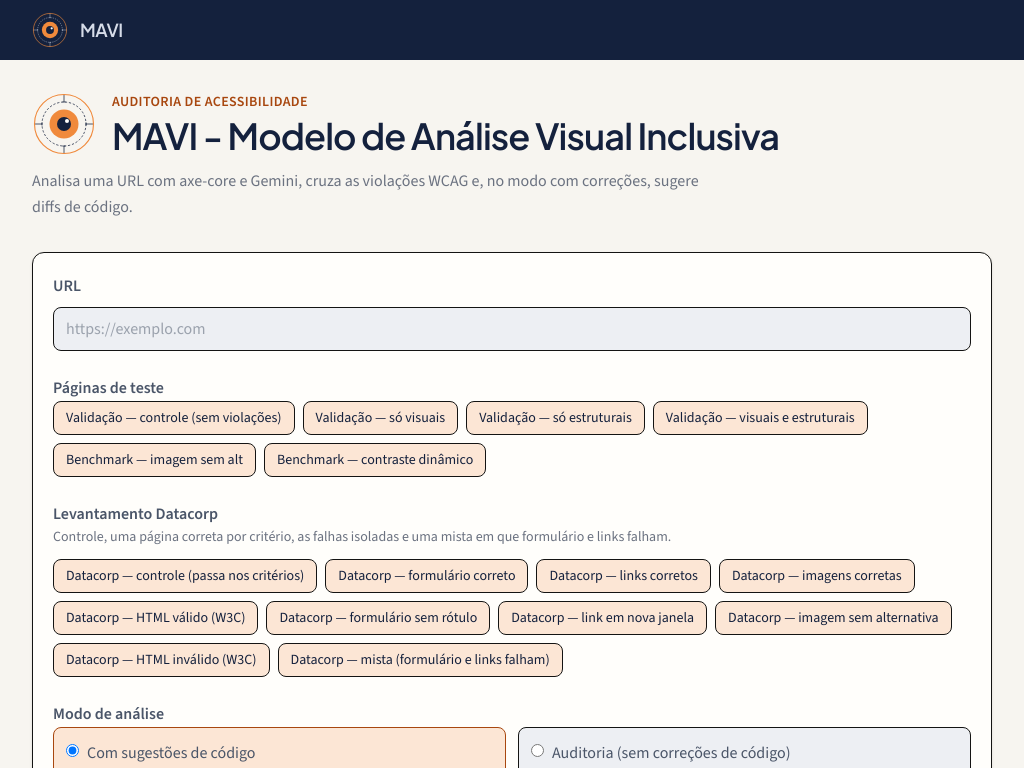
App — submissão de URL › mostra aviso quando a camada visual não rodou por falta de chave
This screenshot has width=1024, height=768.
Type "https://example.com" into the field labelled "URL".
click(512, 329); type("https://example.com")  # box left=53, top=307, right=971, bottom=351
(page scrolled)
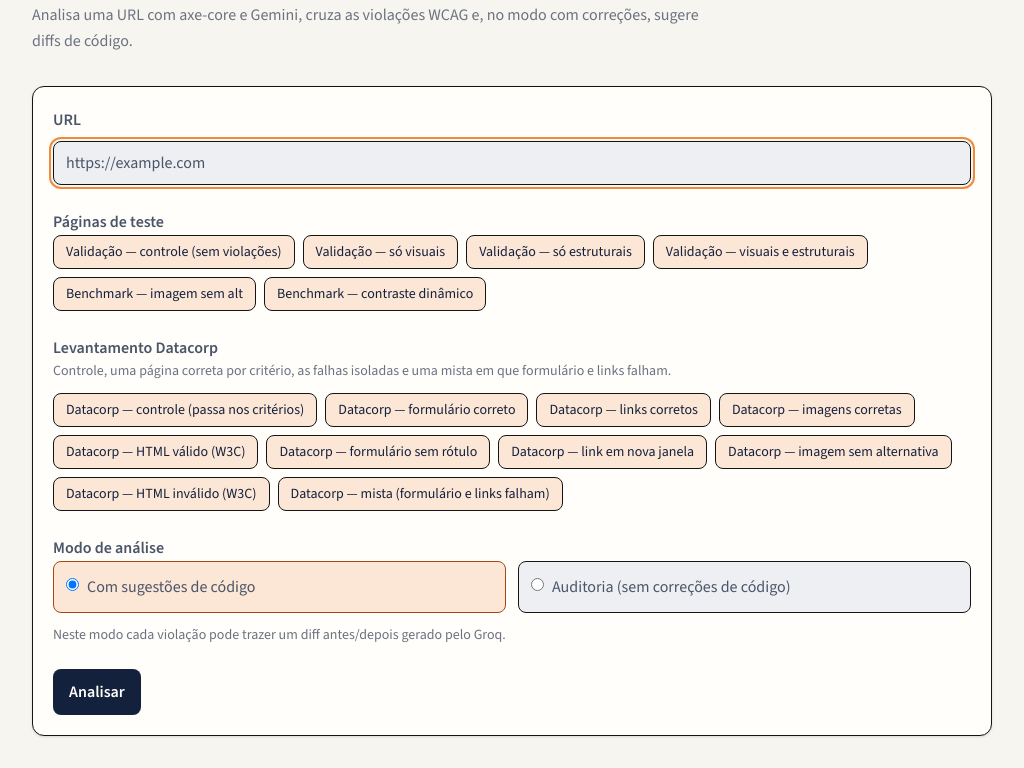
Click the button "Analisar".
click(97, 692)  # box left=53, top=669, right=141, bottom=715
(page scrolled)
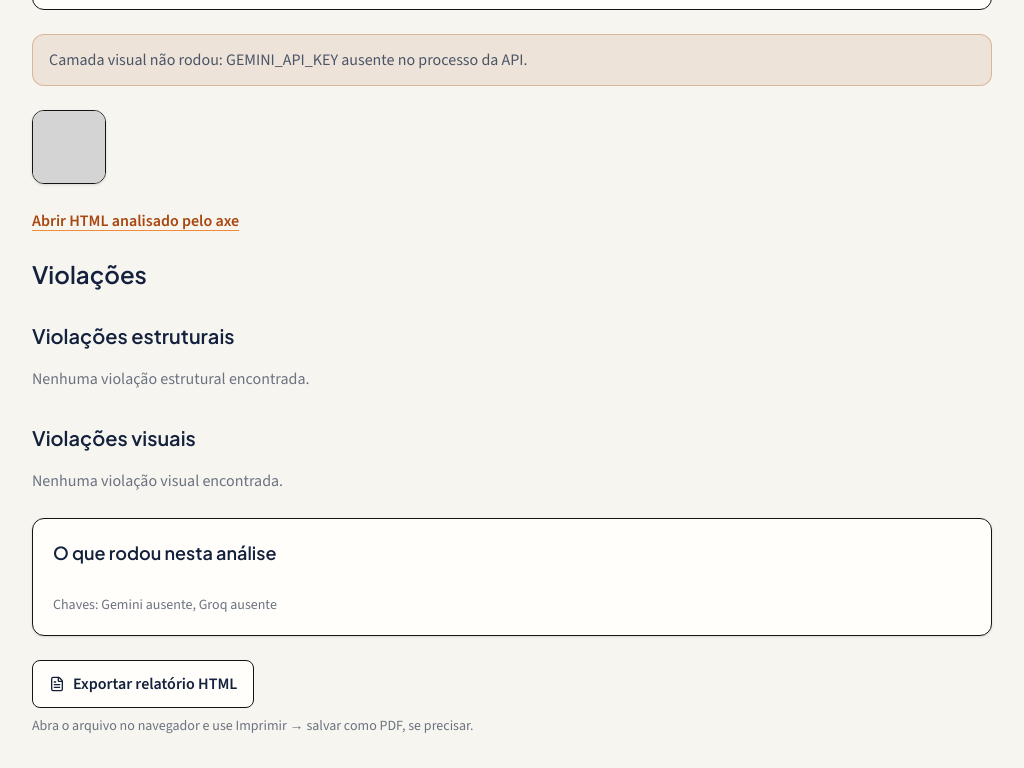
Expected: the message shows "GEMINI_API_KEY ausente", left=49, top=49, right=528, bottom=70
Expected: the element "O que rodou nesta análise" is shown, left=32, top=518, right=992, bottom=636
